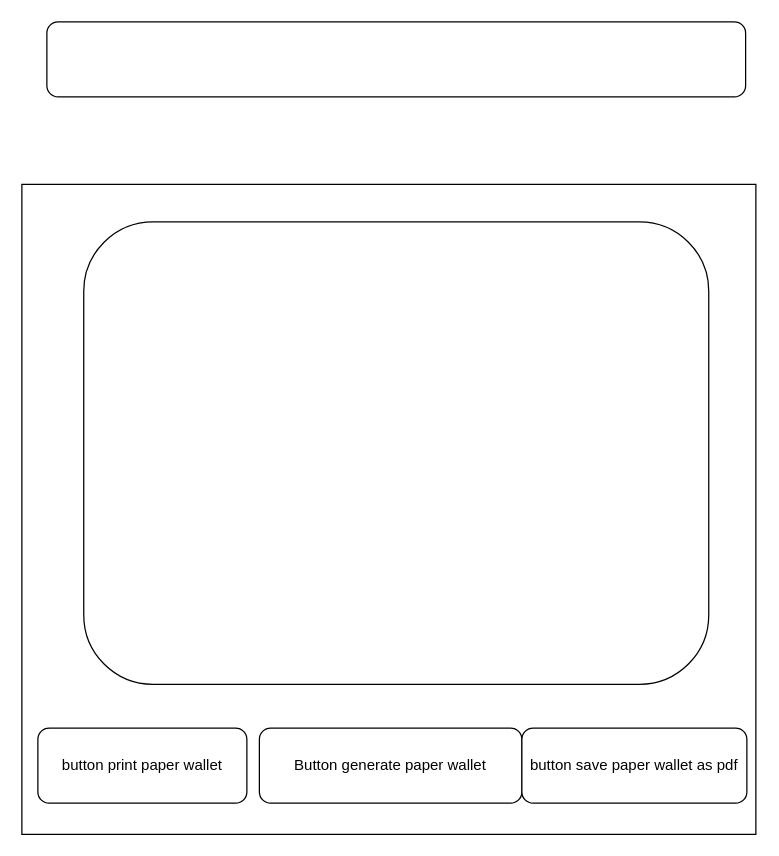
Image size: 779x856. Some labels were removed from this diagram. Each missing label, with the box of its shape:
Paper_Wallet_Generator_Doge_App_Planning: (46, 21, 746, 97)
Resulting paper wallet visualization (pdf file): (82, 221, 709, 684)
